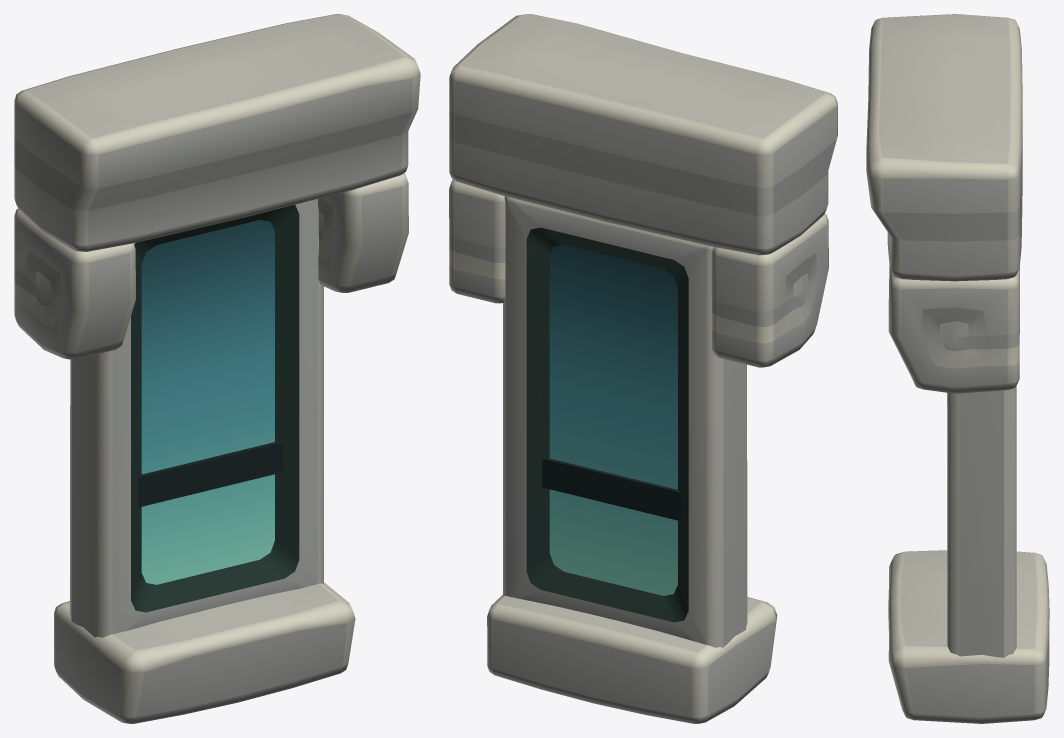
Rendered from window_ornate5_LOD_setup.fbx.
3 renders of one model, left to right at view 1: azimuth 30°, elevation 25°; view 2: azimuth 150°, elevation 25°; view 3: azimuth 270°, elevation 25°, orthographic. The views are drawn at different scales.
Visible parts, largest first — view 1: window_ornate5_LOD0; view 2: window_ornate5_LOD0; view 3: window_ornate5_LOD0.
Part boxes in pixels (x1,y1,x2,y2): window_ornate5_LOD0: [14, 14, 420, 723]; window_ornate5_LOD0: [449, 14, 837, 723]; window_ornate5_LOD0: [866, 14, 1049, 723].
Size of what is drawn, in the model's own units: 156 by 272 by 76.33.
